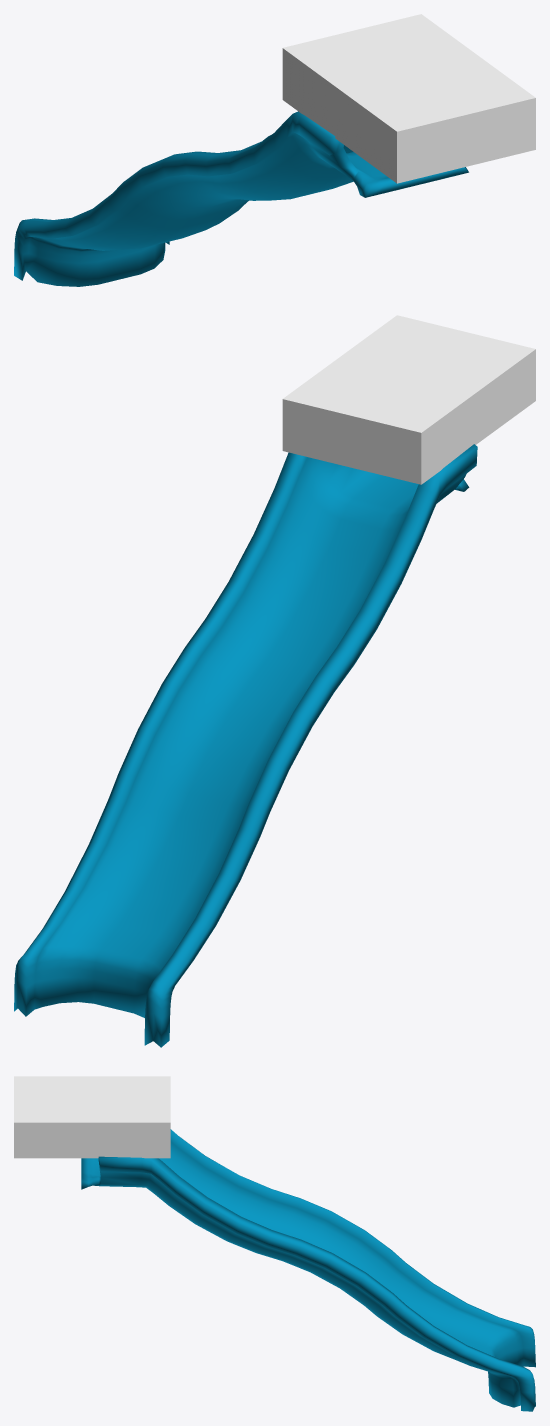
File: Slides.glb
The picture shows the model from 3 angles, top to bottom: view 1: azimuth 30°, elevation 25°; view 2: azimuth 150°, elevation 25°; view 3: azimuth 270°, elevation 25°; orthographic projection. The views are drawn at different scales.
Parts seen in each view (by area): view 1: joint,0,6, Plane034,_colorize_; view 2: Plane034,_colorize_, joint,0,6; view 3: Plane034,_colorize_, joint,0,6.
Part boxes in pixels (x1=…): joint,0,6: x1=282, y1=14, x2=535, y2=183; Plane034,_colorize_: x1=14, y1=111, x2=468, y2=286; Plane034,_colorize_: x1=14, y1=444, x2=477, y2=1047; joint,0,6: x1=282, y1=315, x2=535, y2=484; Plane034,_colorize_: x1=81, y1=1129, x2=535, y2=1411; joint,0,6: x1=14, y1=1076, x2=170, y2=1158.
Size of the model in its own units: 0.7421 by 2.02 by 3.33.
